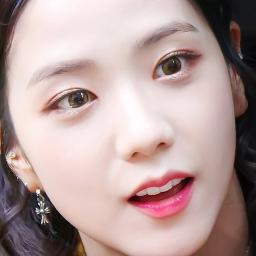face: (20, 2, 236, 254)
